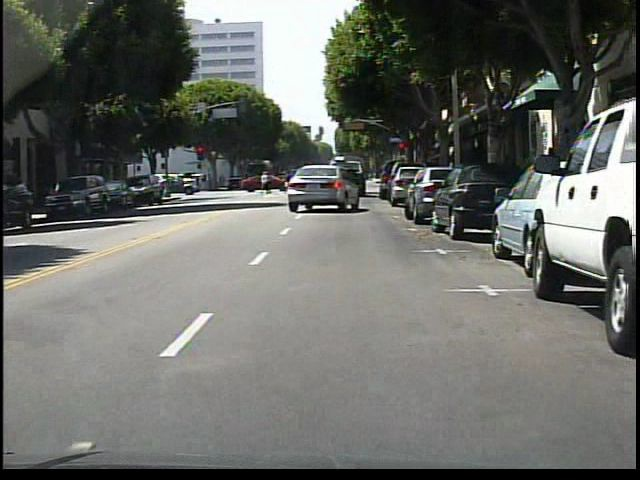person: (540, 146, 566, 203), (260, 171, 272, 195), (284, 168, 295, 194), (263, 173, 269, 188)
